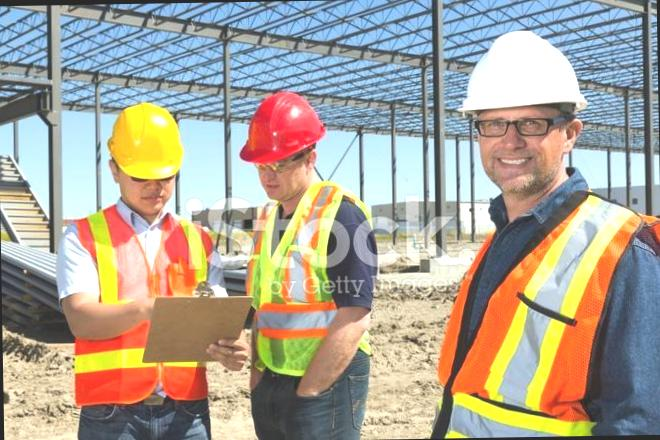helmet: (450, 26, 590, 122), (236, 90, 331, 171), (106, 100, 187, 182)
person: (421, 26, 660, 438), (51, 97, 235, 440), (234, 90, 386, 440)
